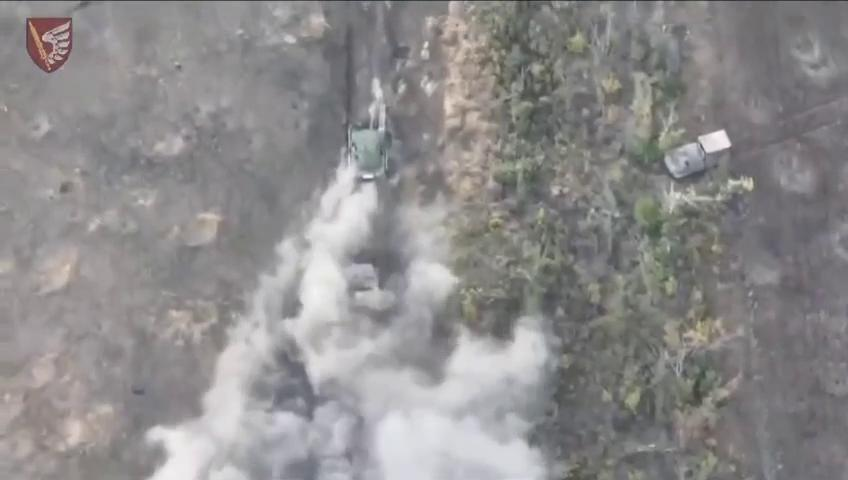tank: (663, 127, 732, 188), (344, 121, 397, 185), (337, 260, 395, 312)
